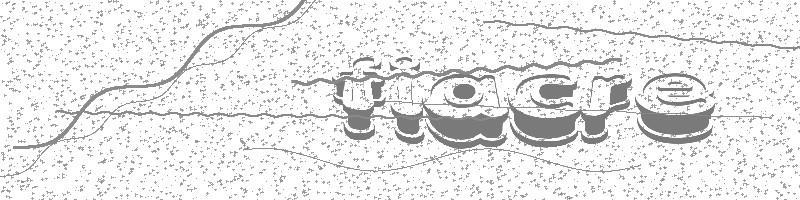a: (423, 70, 513, 155)
c: (504, 68, 586, 148)
e: (634, 70, 724, 145)
f: (333, 48, 387, 137)
i: (387, 51, 425, 143)
r: (581, 65, 632, 145)
